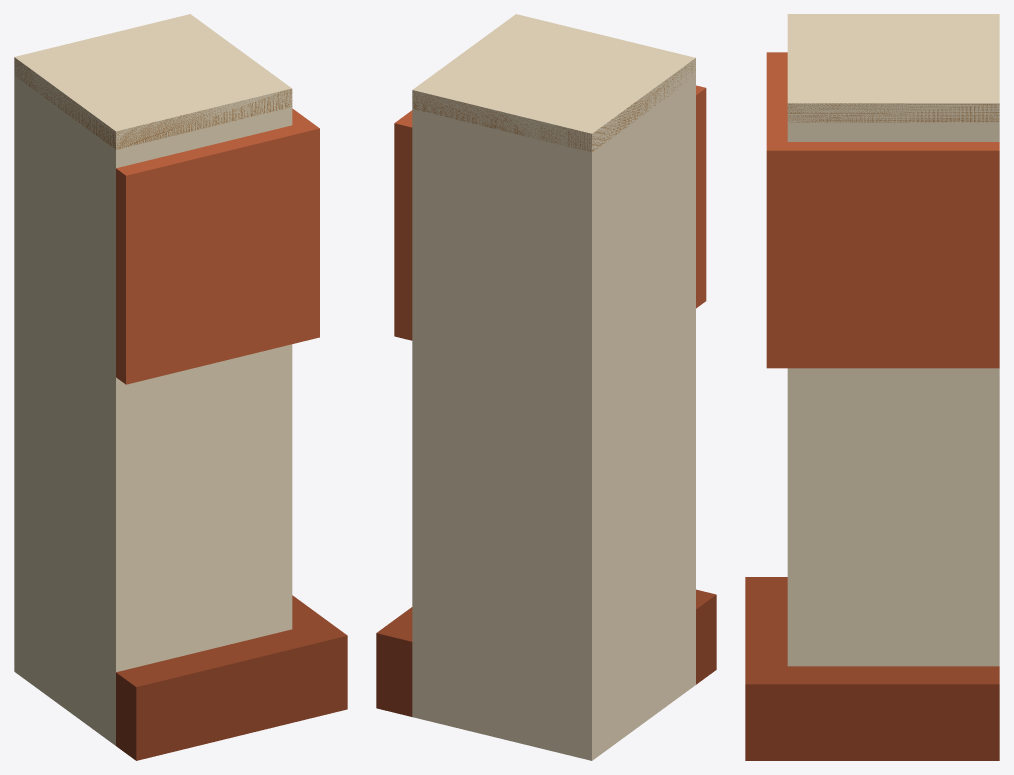
The model's file is wall-corner.glb.
The picture shows the model from 3 angles, left to right: view 1: azimuth 30°, elevation 25°; view 2: azimuth 150°, elevation 25°; view 3: azimuth 270°, elevation 25°; orthographic projection. The views are drawn at different scales.
Visible parts, largest first — view 1: wall-corner; view 2: wall-corner; view 3: wall-corner.
Part boxes in pixels (<box>): wall-corner: <box>14,14,347,760</box>; wall-corner: <box>376,14,716,760</box>; wall-corner: <box>745,14,999,760</box>.
Size of the model in its own units: 0.18 by 0.5 by 0.18.
1 material, 1 textured.
